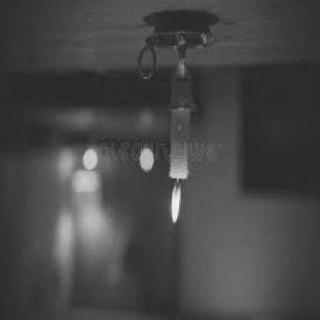Fire: (165, 168, 187, 232)
